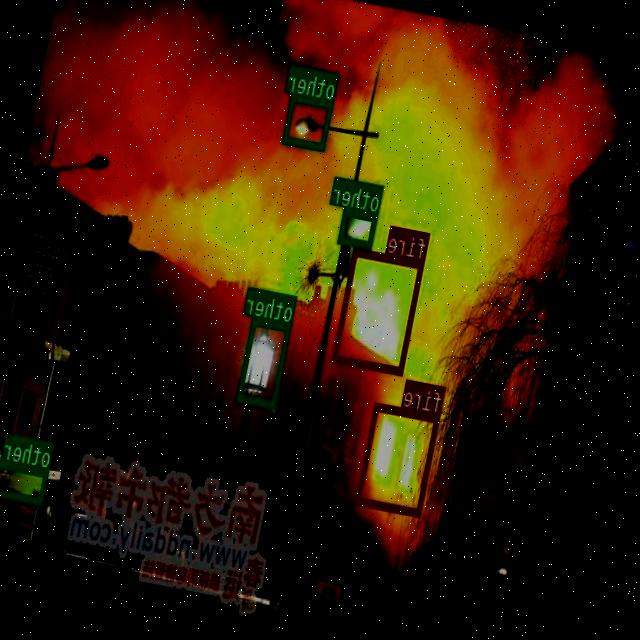fire: (334, 248, 426, 374), (356, 402, 442, 516)
